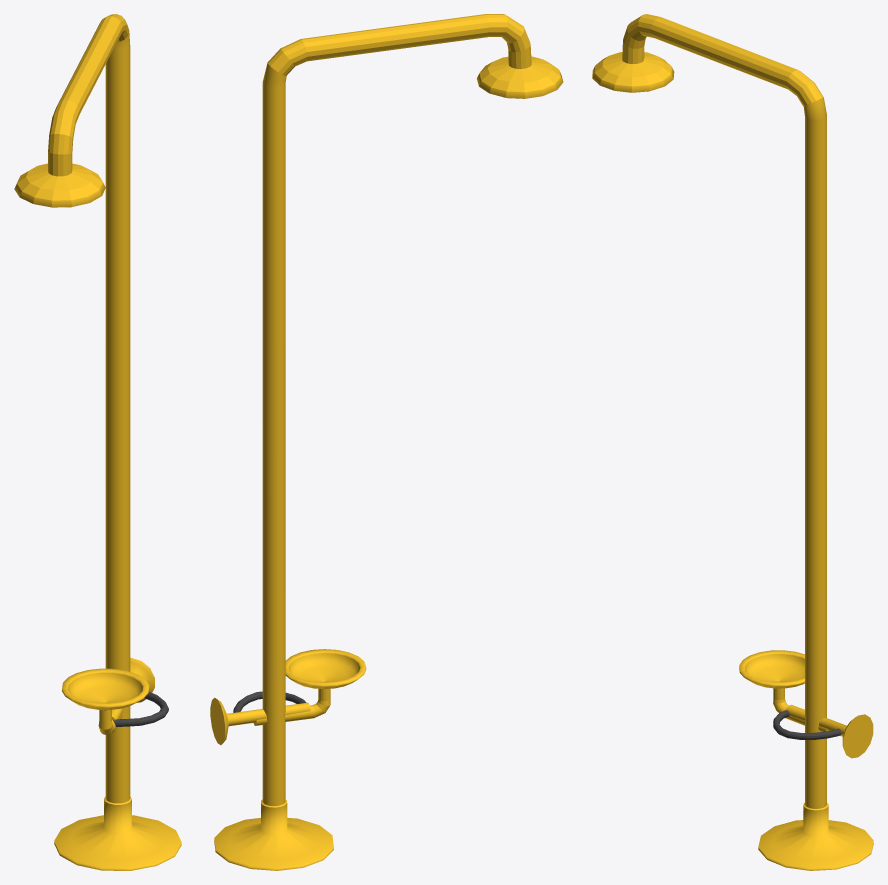
File: EmergencyShower.fbx
The picture shows the model from 3 angles, left to right: view 1: azimuth 30°, elevation 25°; view 2: azimuth 150°, elevation 25°; view 3: azimuth 270°, elevation 25°; orthographic projection. The views are drawn at different scales.
Visible parts, largest first — view 1: emergency_shower_obj; view 2: emergency_shower_obj; view 3: emergency_shower_obj.
Boxes of the visible parts, x1,y1,x2,y2 form: emergency_shower_obj: (14, 14, 181, 870); emergency_shower_obj: (210, 14, 563, 870); emergency_shower_obj: (592, 14, 873, 870).
Bounding box in the file's own units: 90.25 × 288 × 95.44.
